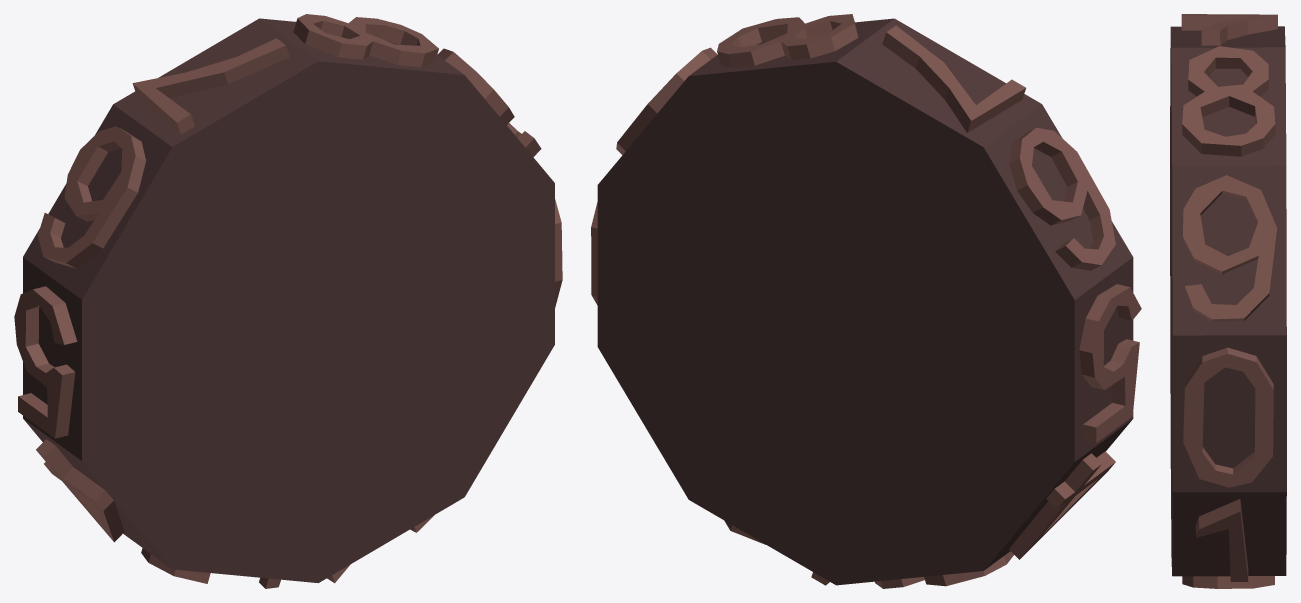
The model's file is DarkRoseWoodMechSmallCounterWheel1.fbx.
The picture shows the model from 3 angles, left to right: view 1: azimuth 30°, elevation 25°; view 2: azimuth 150°, elevation 25°; view 3: azimuth 270°, elevation 25°; orthographic projection. The views are drawn at different scales.
Parts seen in each view (by area): view 1: DarkRoseWoodMechSmallCounterWheel1; view 2: DarkRoseWoodMechSmallCounterWheel1; view 3: DarkRoseWoodMechSmallCounterWheel1.
Boxes of the visible parts, <box> form: DarkRoseWoodMechSmallCounterWheel1: <box>14,14,562,588</box>; DarkRoseWoodMechSmallCounterWheel1: <box>591,14,1141,588</box>; DarkRoseWoodMechSmallCounterWheel1: <box>1170,14,1286,588</box>.
Bounding box in the file's own units: 351 × 361 × 72.75.
